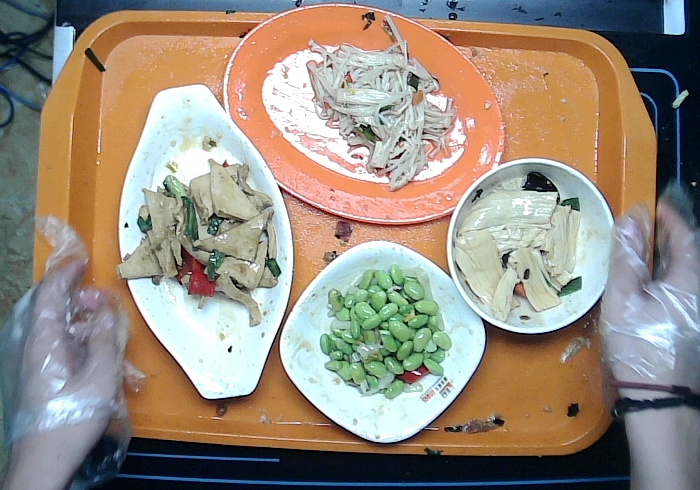NLDX-Bai_Se_Xiao_Fang_Die: (278, 239, 489, 445)
NLDX-Fan_Wan: (445, 156, 617, 337)
NLDX-Ju_Se_Pan: (221, 2, 506, 227)
NLDX-Yu_Pan: (114, 80, 296, 403)
